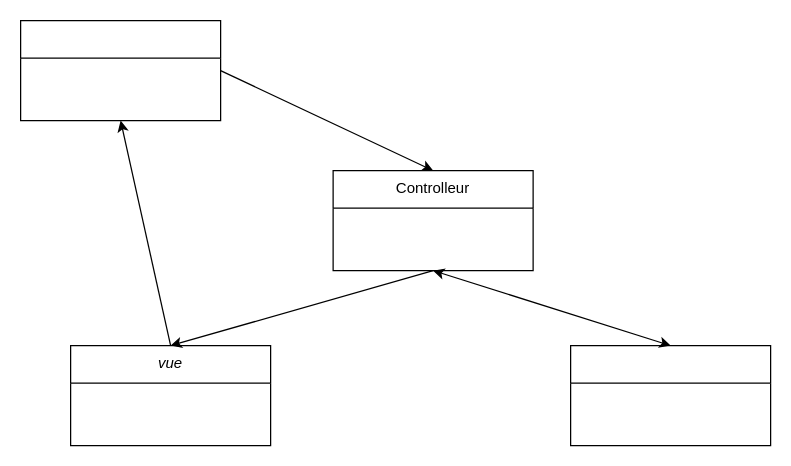
The diagram is 791 pixels wide and 466 high, and some of its shapes have lost their labels. Each missing label, with the centre of its shape:
Modèle: (670,395)
site web: (120,70)
